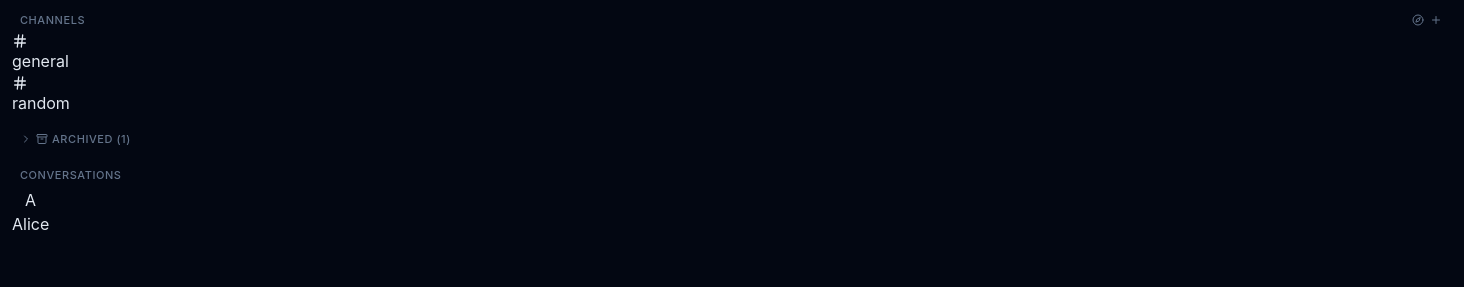
ConversationList — section header menus › Archived expands and collapses its section
Expected: the text "general" is shown, x1=12 y1=48 x2=69 y2=72
Right-click the button "Archived (1)" at (87, 138), box x1=12 y1=130 x2=1452 y2=151
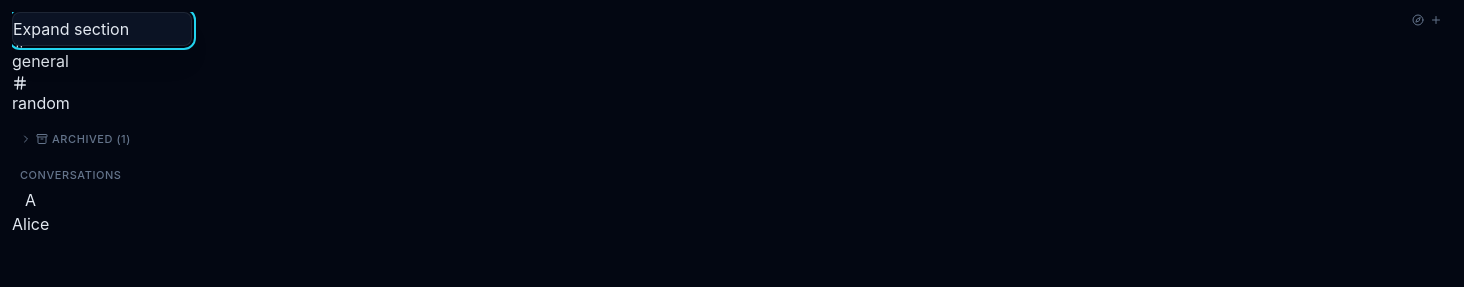
Click the menu item "Expand section". click: (71, 29)
box: x1=13 y1=17 x2=129 y2=41
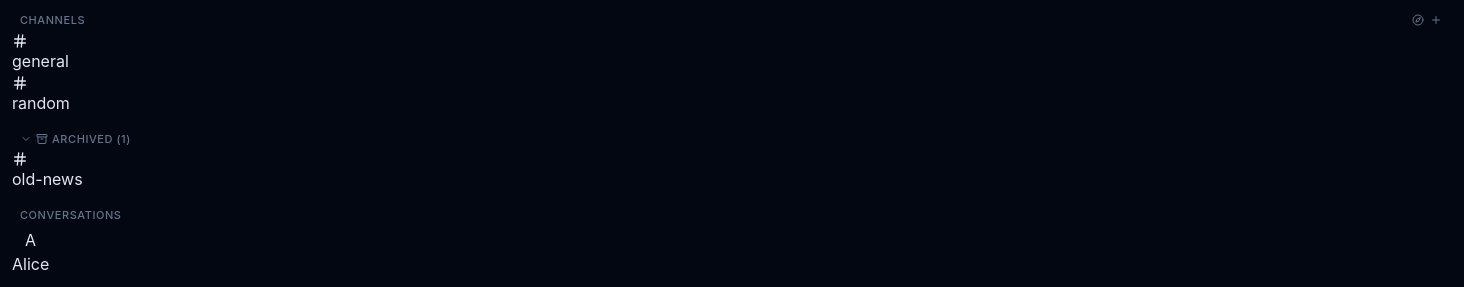
Expected: the button "Archived (1)" is expanded
Press ContextMenu in the button "Archived (1)", box x1=12 y1=130 x2=1452 y2=151
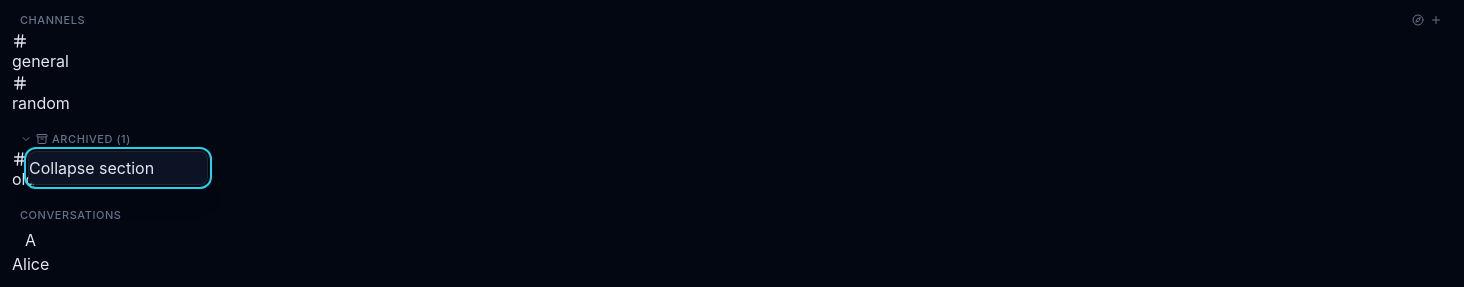
Click the menu item "Collapse section". click: (92, 168)
box: x1=29 y1=156 x2=154 y2=180
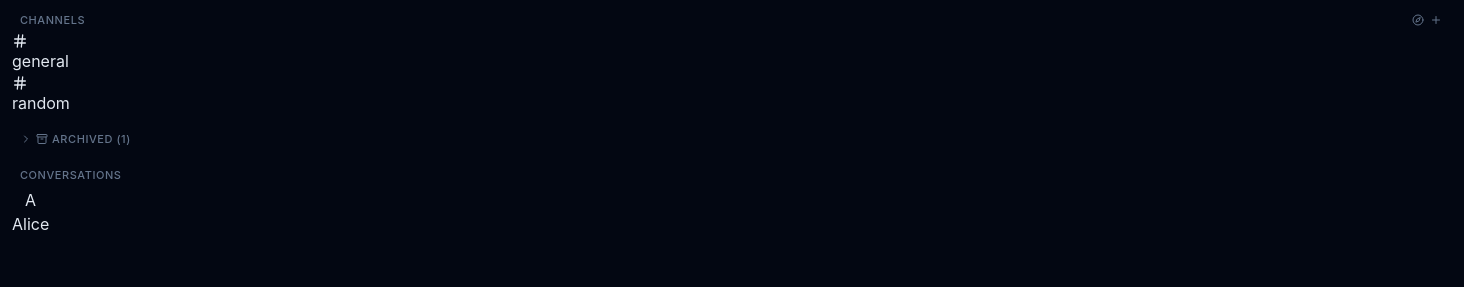
Expected: the button "Archived (1)" is collapsed, x1=12 y1=130 x2=1452 y2=151
